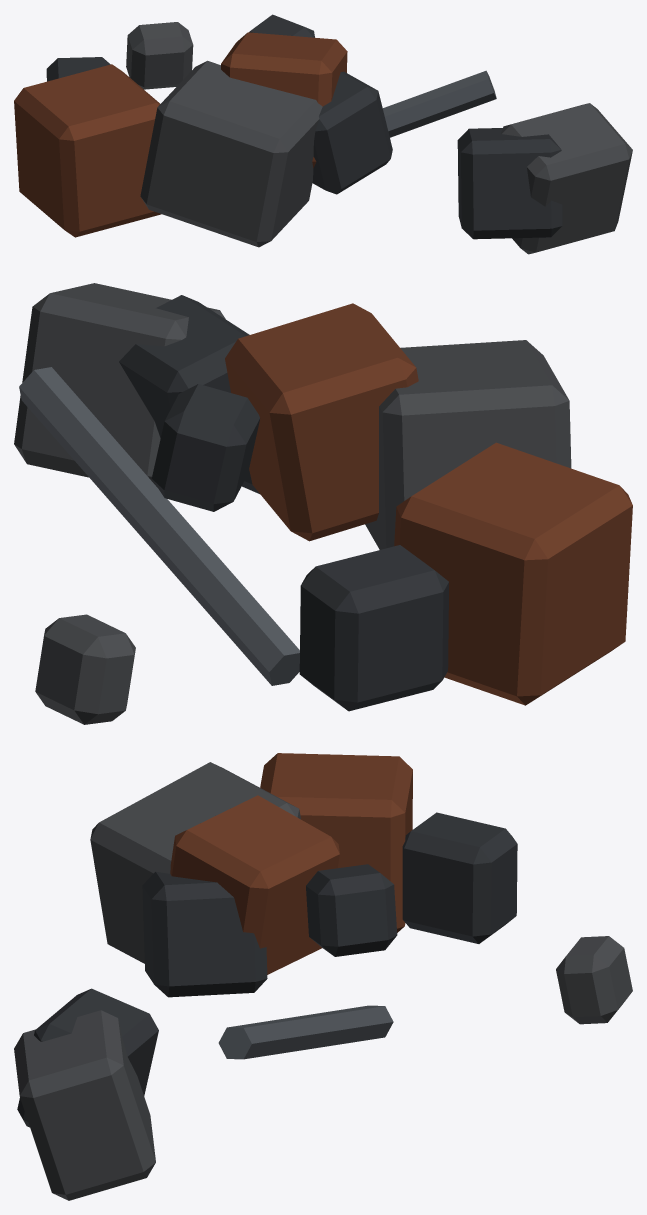
Rendered from scrap.glb.
3 renders of one model, top to bottom at view 1: azimuth 30°, elevation 25°; view 2: azimuth 150°, elevation 25°; view 3: azimuth 270°, elevation 25°, orthographic. The views are drawn at different scales.
Visible parts, largest first — view 1: Scrap; view 2: Scrap; view 3: Scrap.
Part boxes in pixels (x1,y1,x2,y2): Scrap: (14, 14, 632, 254); Scrap: (14, 283, 632, 724); Scrap: (14, 753, 632, 1200).
Bounding box in the file's own units: 0.7186 × 0.2822 × 0.6805.
